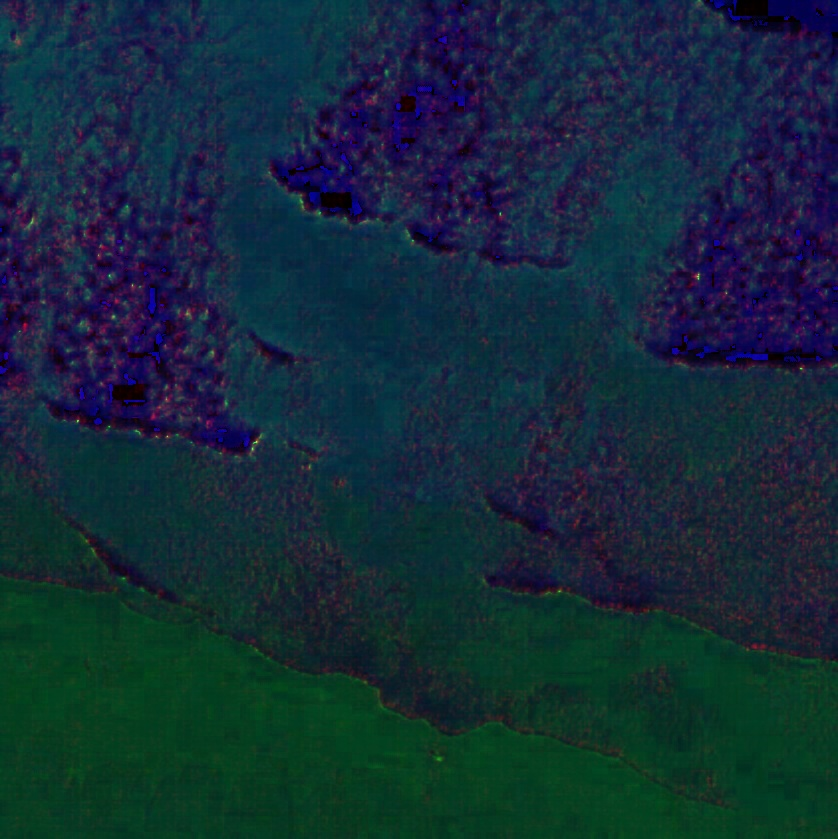rip_current: (193, 168, 556, 645)
